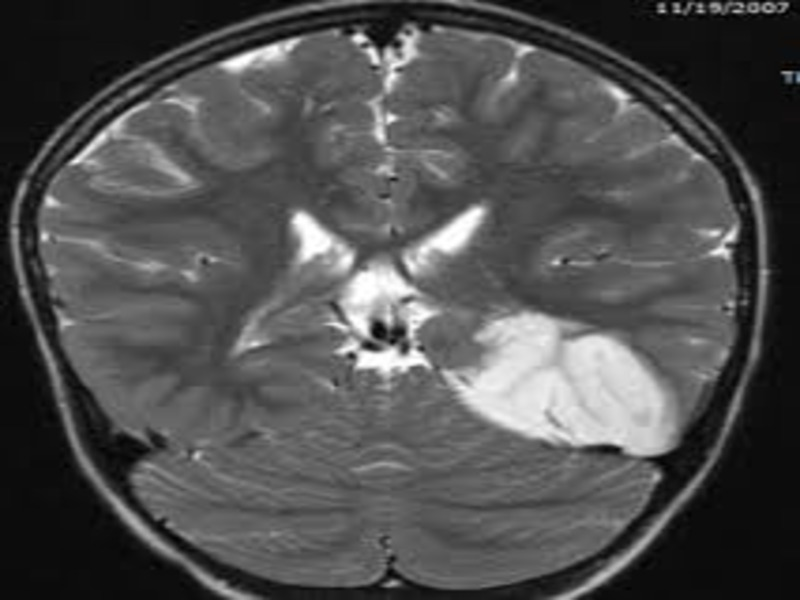tumor: (440, 306, 686, 457)
